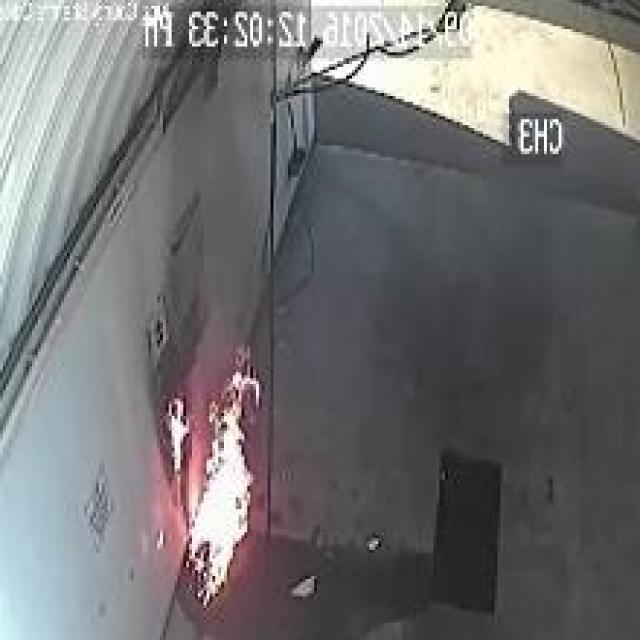smoke: (189, 355, 262, 605), (164, 391, 190, 476)
